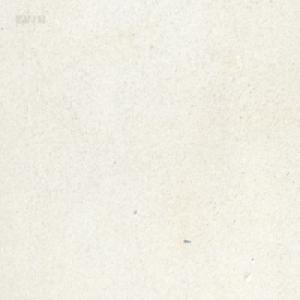Nail: (183, 238, 191, 243)
